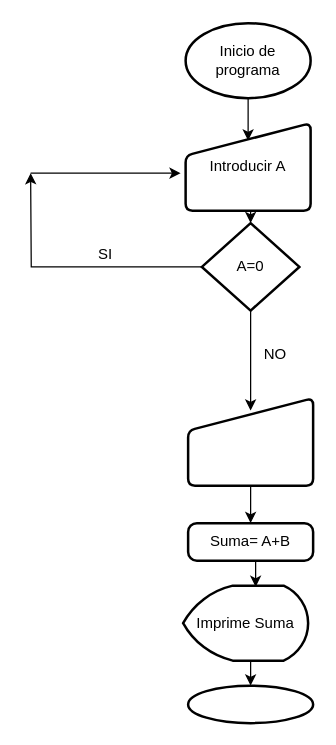
The diagram is 336 pixels wide and 745 high, and some of its shapes have lost their labels. Each missing label, with the box of its shape:
Fin: (186, 684, 314, 724)
Introducir B: (186, 396, 314, 486)
